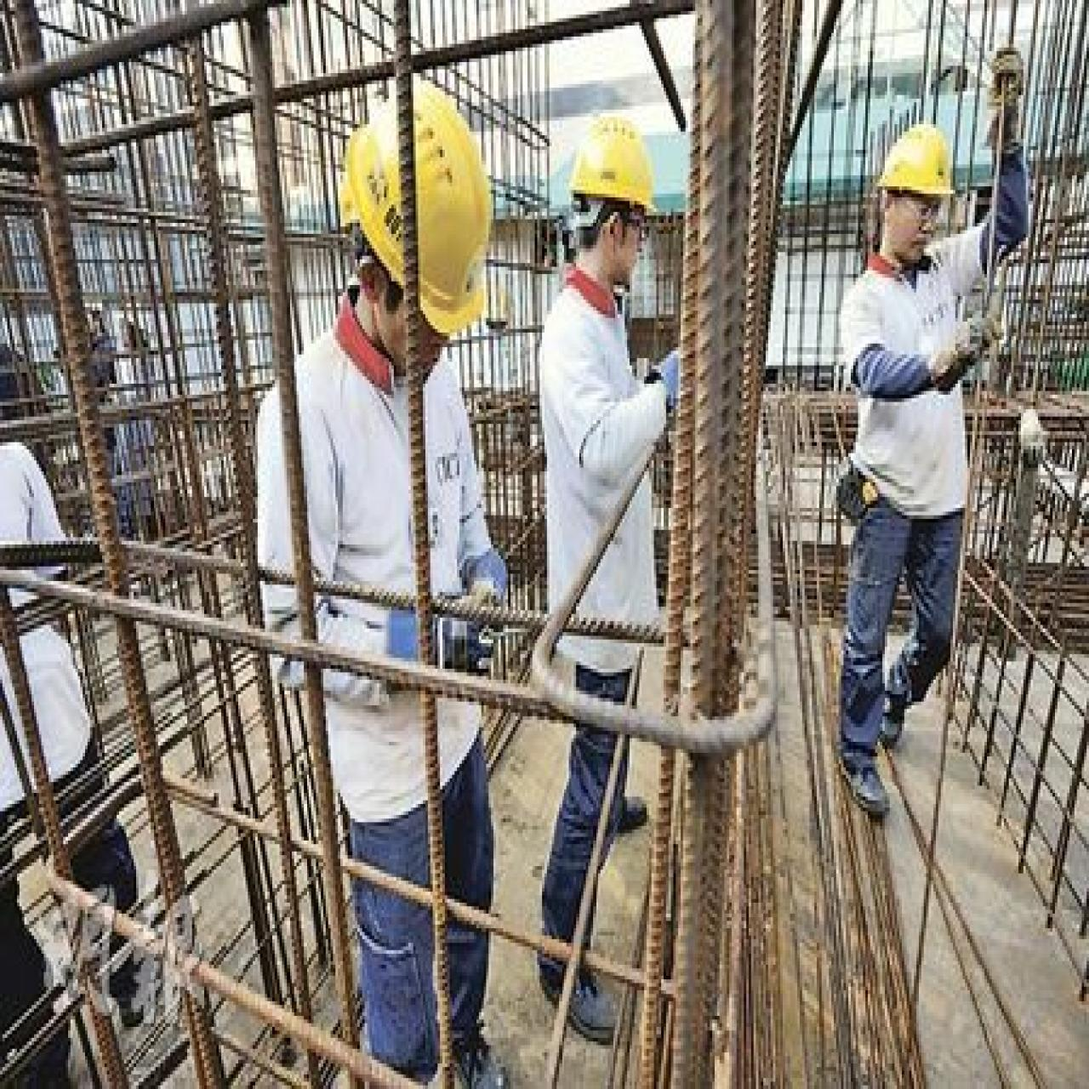NO_Safety_Vest: (256, 333, 499, 806), (538, 276, 664, 672), (849, 242, 985, 532), (0, 448, 103, 800)
Person: (224, 48, 536, 1089), (820, 29, 1039, 832), (521, 86, 696, 1056), (1, 398, 153, 1089)
